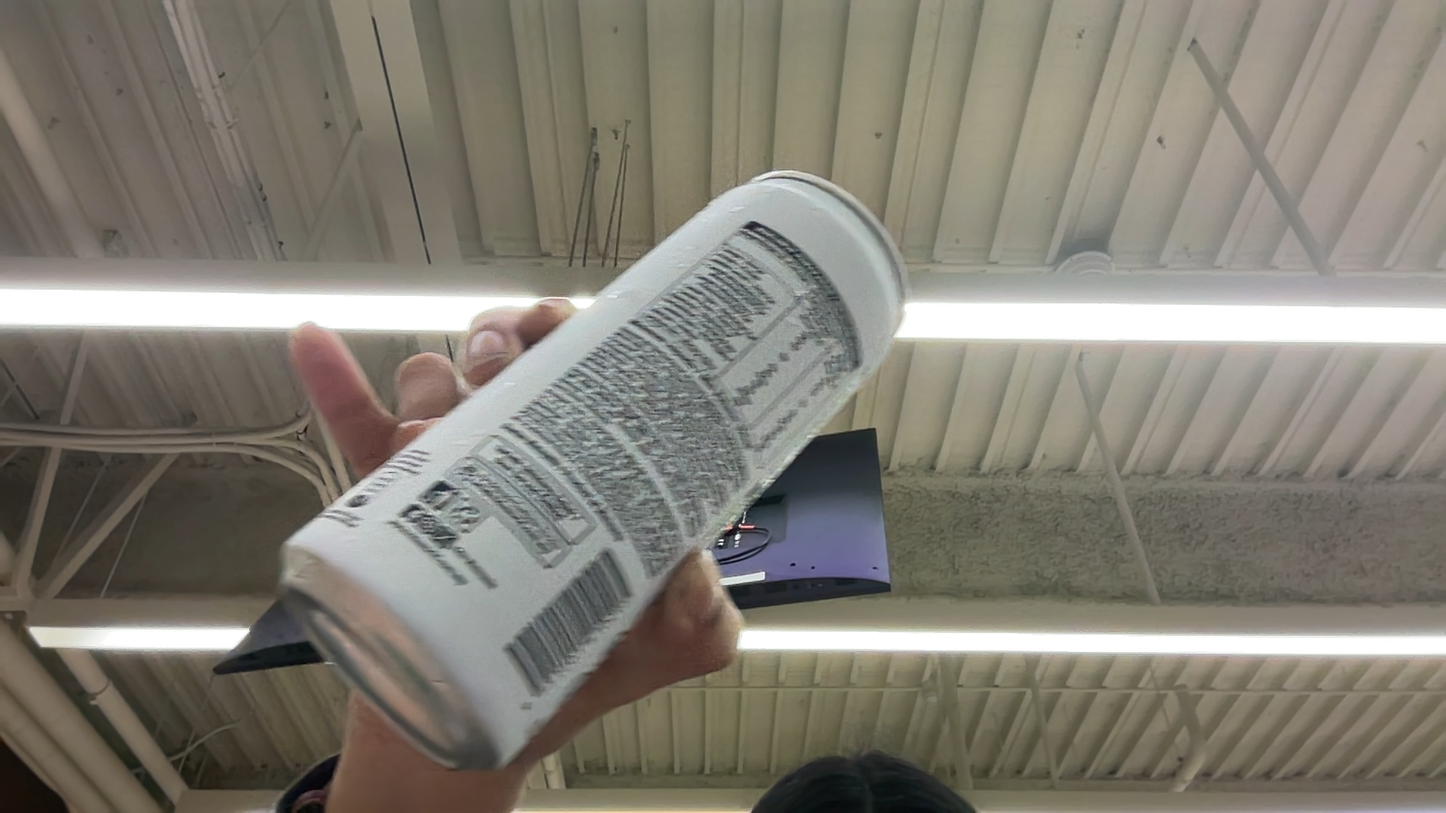Metal: (257, 157, 944, 770)
